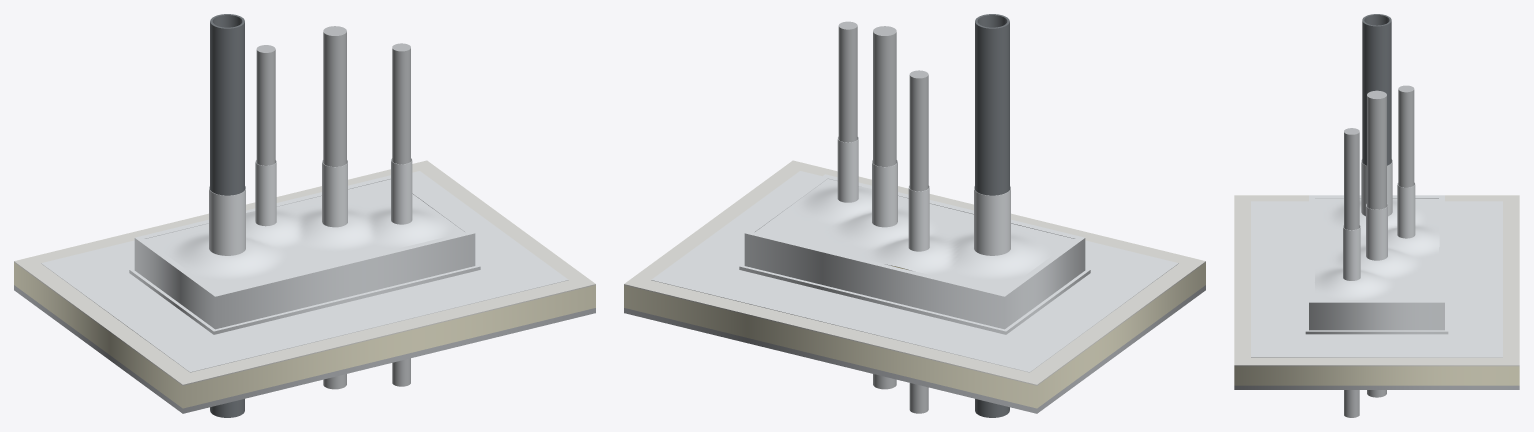
The model's file is chem-curb-P-8-TYP.glb.
The picture shows the model from 3 angles, left to right: view 1: azimuth 30°, elevation 25°; view 2: azimuth 150°, elevation 25°; view 3: azimuth 270°, elevation 25°; orthographic projection. The views are drawn at different scales.
Visible parts, largest first — view 1: topcoat__coat, topcoat__over_fill, existing__insulation, existing__membrane, existing__penetration_curb, existing__penetration_castiron, existing__steel_deck; view 2: topcoat__coat, topcoat__over_fill, existing__insulation, existing__membrane, existing__penetration_curb, existing__penetration_castiron, existing__steel_deck; view 3: topcoat__coat, existing__membrane, topcoat__over_fill, existing__penetration_curb, existing__insulation, existing__penetration_castiron, existing__steel_deck.
Part boxes in pixels (x1,y1,x2,y2): topcoat__coat: (41,158,568,372); topcoat__over_fill: (145,179,464,292); existing__insulation: (14,262,595,408); existing__membrane: (14,160,595,385); existing__penetration_curb: (256,26,410,389); existing__penetration_castiron: (210,14,244,417); existing__steel_deck: (14,285,595,413); topcoat__coat: (651,136,1178,372); topcoat__over_fill: (755,179,1074,292); existing__insulation: (624,262,1205,408); existing__membrane: (624,160,1205,385); existing__penetration_curb: (838,21,928,413); existing__penetration_castiron: (975,14,1009,417); existing__steel_deck: (624,285,1205,413); topcoat__coat: (1251,159,1502,357); existing__membrane: (1234,195,1519,366); topcoat__over_fill: (1315,198,1439,299); existing__penetration_curb: (1344,85,1414,417); existing__insulation: (1234,366,1519,385); existing__penetration_castiron: (1362,14,1391,165); existing__steel_deck: (1234,385,1519,389).
Bounding box in the file's own units: 1.22 × 1.1 × 0.8636.
